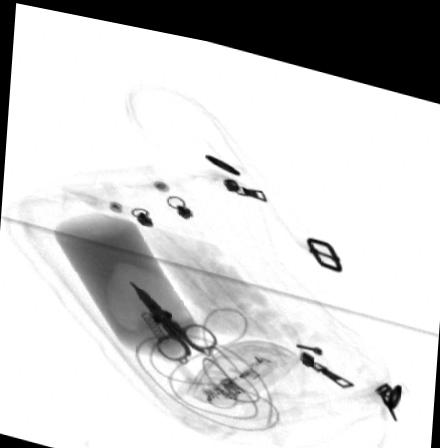Scissors: (132, 275, 215, 354)
